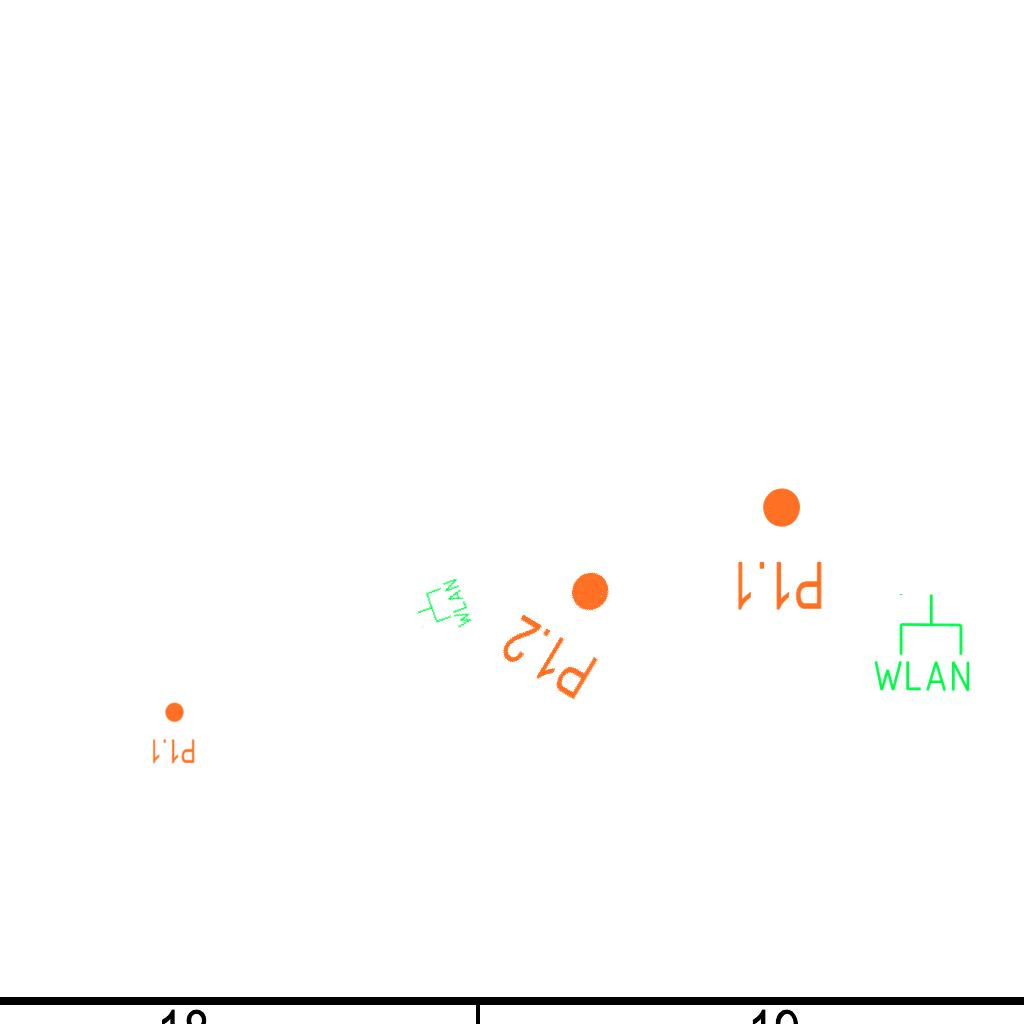Downlight_LED_Einbauleuchten_Flur: (494, 547, 641, 705), (732, 485, 825, 613), (150, 701, 196, 765)
WLAN: (869, 591, 974, 695), (408, 575, 476, 643)
